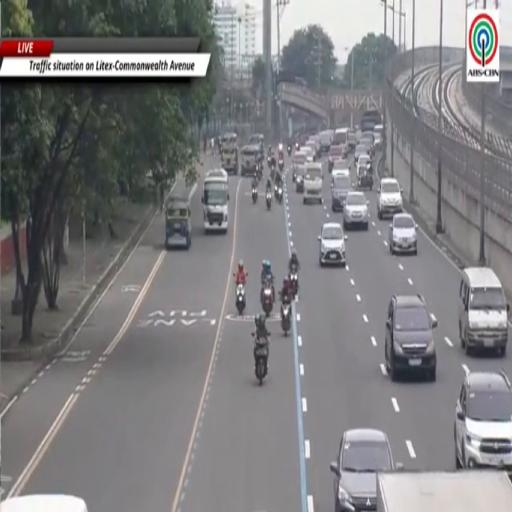bus: (360, 110, 381, 132)
car: (330, 428, 402, 511), (454, 372, 511, 472), (385, 295, 437, 381), (0, 494, 87, 511), (318, 222, 345, 266), (389, 213, 417, 254), (377, 178, 403, 219), (343, 191, 368, 230), (332, 171, 351, 212), (328, 146, 343, 171), (331, 167, 350, 185), (354, 144, 368, 165), (296, 164, 306, 193), (356, 154, 372, 171), (301, 146, 315, 163), (332, 159, 350, 172), (348, 130, 356, 152), (374, 134, 382, 152)
jeepney: (165, 197, 191, 248), (221, 134, 238, 174), (241, 144, 259, 177)
motorcycle: (254, 335, 269, 385), (261, 285, 273, 316), (281, 302, 291, 335), (236, 283, 245, 314), (289, 268, 298, 297), (266, 191, 272, 210), (256, 164, 262, 182), (276, 186, 282, 204), (278, 158, 284, 172), (252, 188, 257, 203), (271, 166, 275, 181), (292, 168, 296, 182), (267, 156, 271, 167), (288, 144, 291, 155), (295, 142, 299, 150)
truck: (377, 470, 511, 511), (202, 169, 229, 233), (303, 163, 323, 203)
